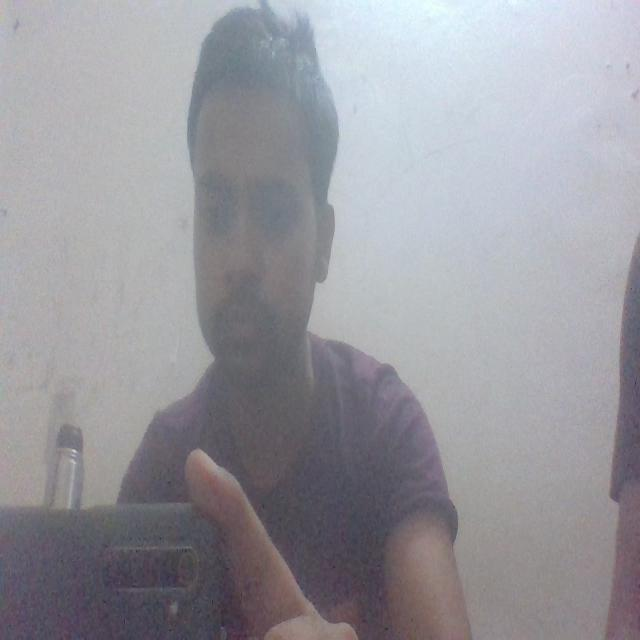Phone: (0, 501, 228, 640)
